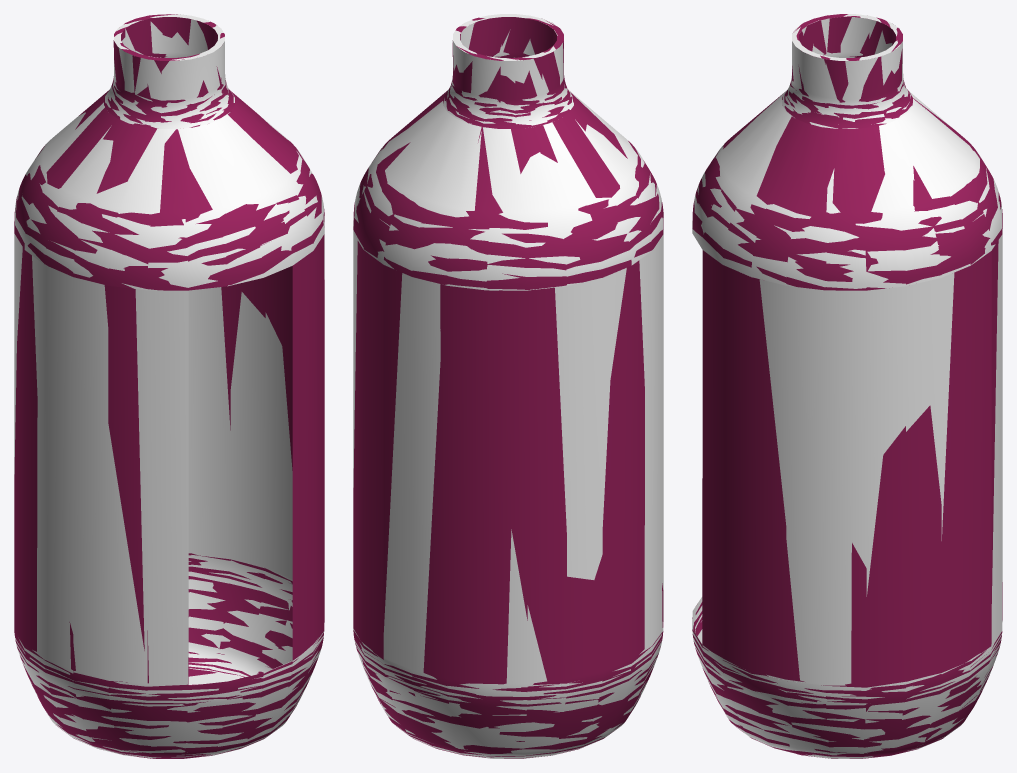
File: original-1.obj
3 views of the same model, side by side, from view 1: azimuth 30°, elevation 25°; view 2: azimuth 150°, elevation 25°; view 3: azimuth 270°, elevation 25° (orthographic).
Visible parts, largest first — view 1: #ID236; view 2: #ID236; view 3: #ID236.
Part boxes in pixels (left/top/right/bottom): #ID236: left=14, top=14, right=324, bottom=758; #ID236: left=353, top=14, right=663, bottom=758; #ID236: left=692, top=14, right=1002, bottom=758.
Bounding box in the file's own units: 0.5686 × 1.36 × 0.5686.
Materials: 2 (2 with a texture image).
